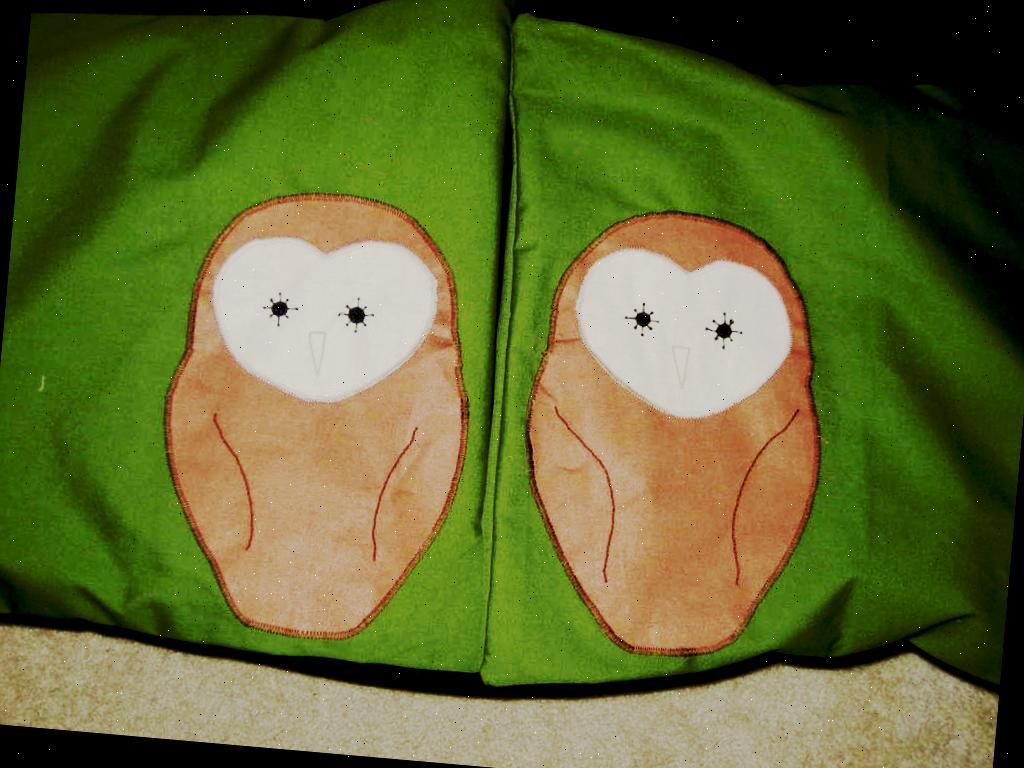Owl: (144, 179, 492, 647), (503, 196, 844, 671)
